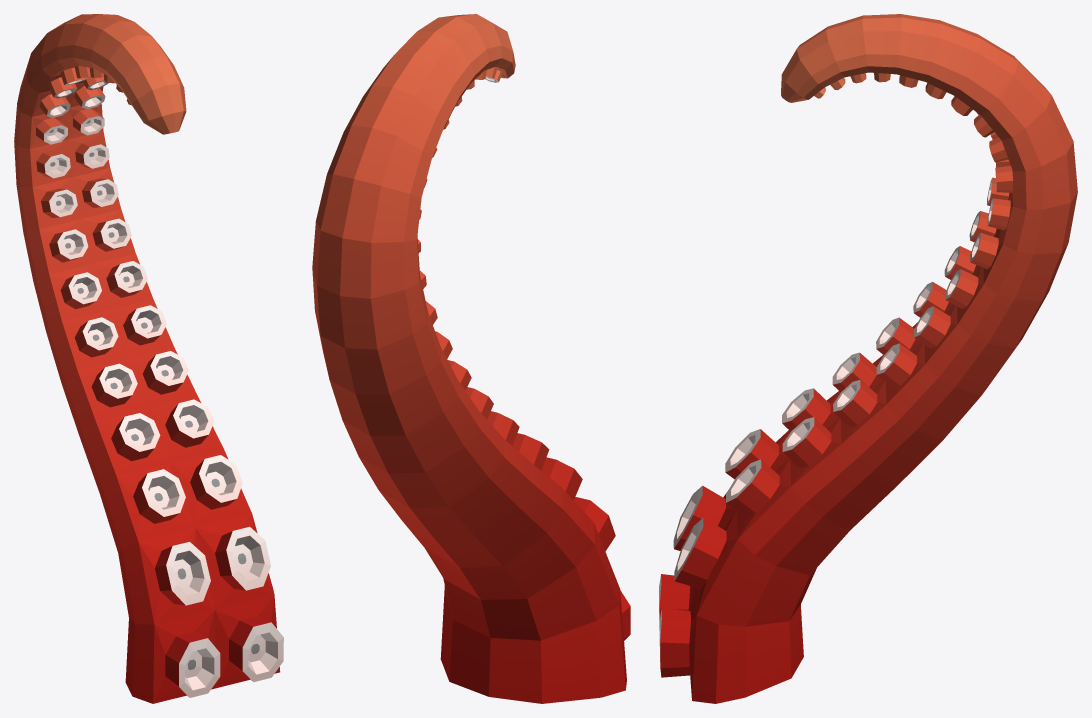
Rendered from tentacles-2.glb.
3 views of the same model, side by side, from view 1: azimuth 30°, elevation 25°; view 2: azimuth 150°, elevation 25°; view 3: azimuth 270°, elevation 25° (orthographic). The views are drawn at different scales.
Parts seen in each view (by area): view 1: tentacles 2; view 2: tentacles 2; view 3: tentacles 2.
Boxes of the visible parts, bbox=[...] form: tentacles 2: bbox=[14, 14, 283, 703]; tentacles 2: bbox=[312, 14, 630, 703]; tentacles 2: bbox=[659, 14, 1077, 703].
Size of the model in its own units: 3.24 by 12.57 by 7.36.
Materials: 1 (1 with a texture image).
